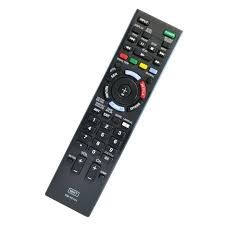remote control: (27, 3, 184, 217)
